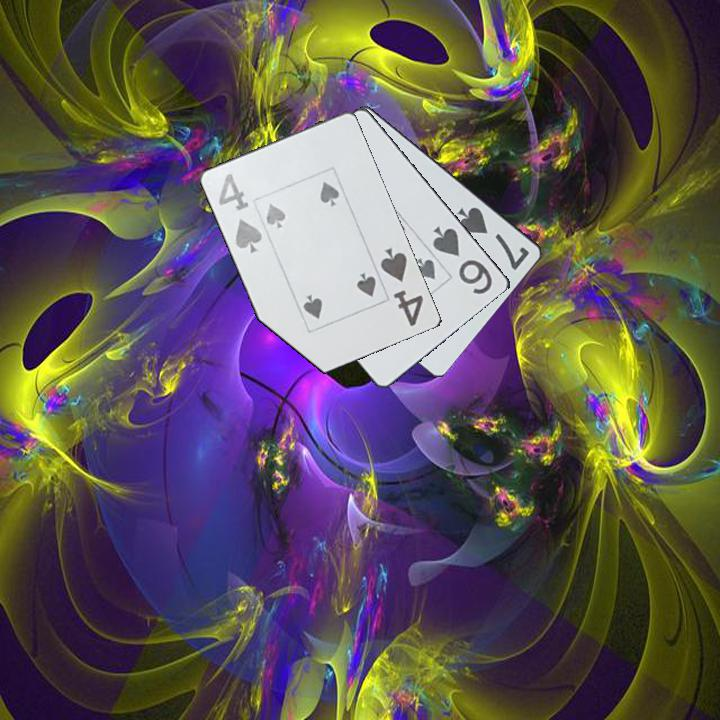4s: (377, 242, 427, 329), (215, 170, 266, 255)
6s: (429, 222, 496, 298)
7s: (453, 203, 533, 274)
